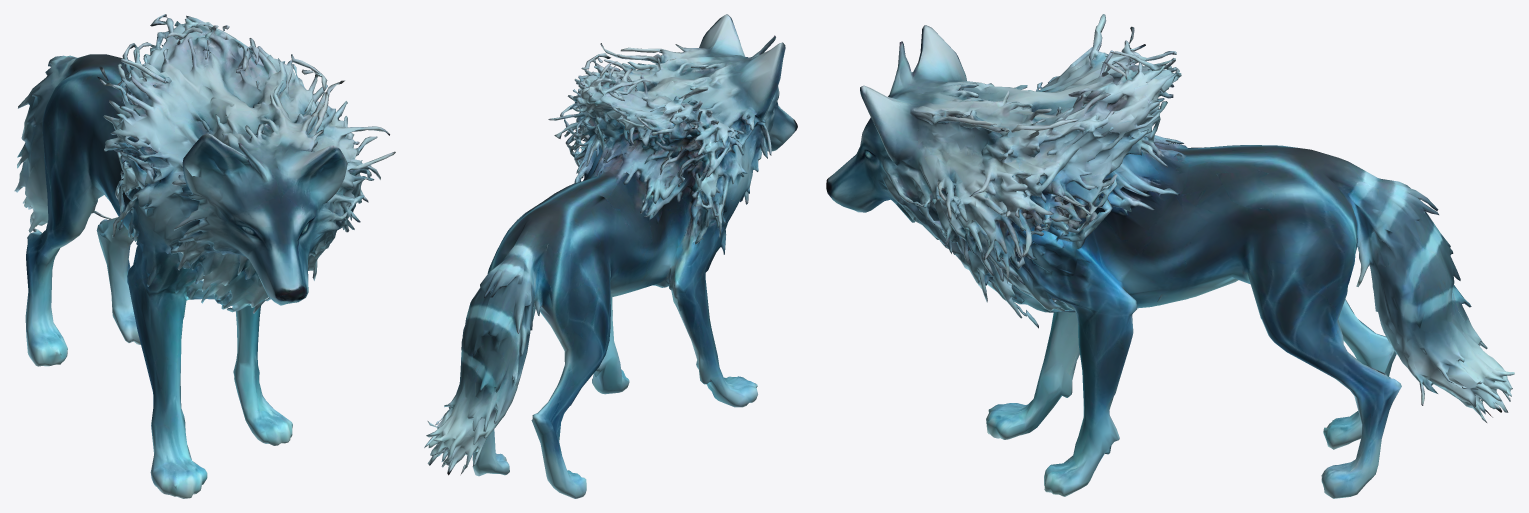
The model's file is apex-criatura-lobo.glb.
3 views of the same model, side by side, from view 1: azimuth 30°, elevation 25°; view 2: azimuth 150°, elevation 25°; view 3: azimuth 270°, elevation 25° (orthographic). The views are drawn at different scales.
Size of the model in its own units: 0.7762 by 1.35 by 2.
Materials: 1 (1 with a texture image).
